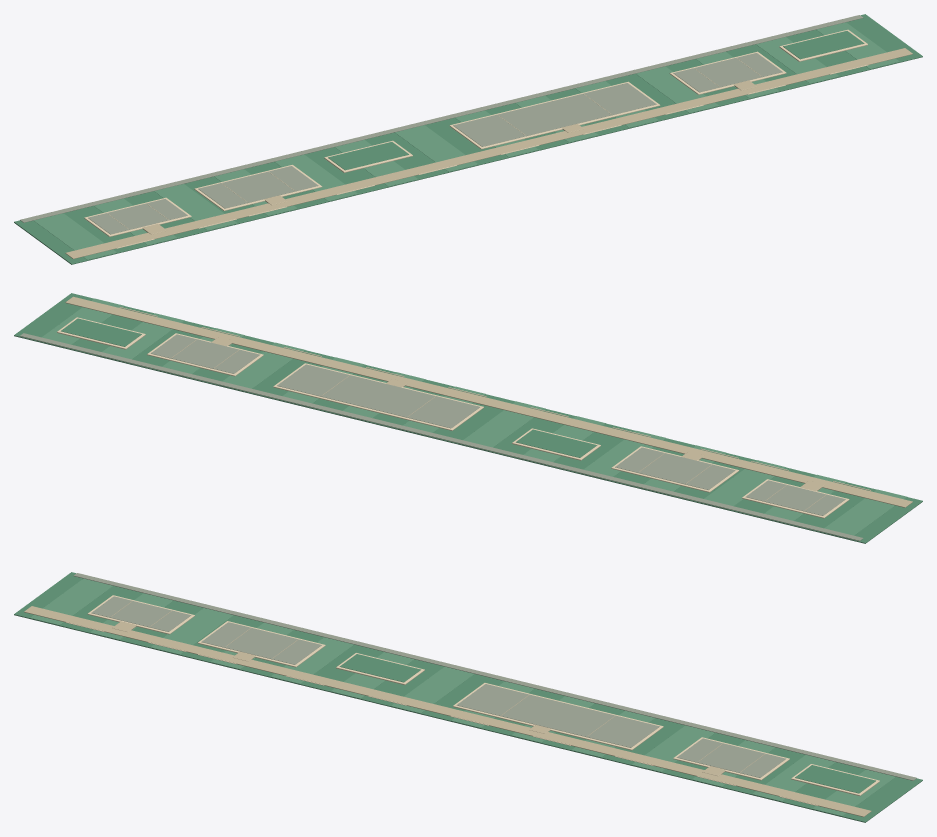
File: athlete_infield_plan.glb
The picture shows the model from 3 angles, top to bottom: view 1: azimuth 30°, elevation 25°; view 2: azimuth 150°, elevation 25°; view 3: azimuth 330°, elevation 25°; orthographic projection.
Parts seen in each view (by area): view 1: athlete_infield_plan__paving_dark, athlete_infield_plan__turf, athlete_infield_plan__turf_light, athlete_infield_plan__paving, athlete_infield_plan__cream; view 2: athlete_infield_plan__paving_dark, athlete_infield_plan__turf, athlete_infield_plan__turf_light, athlete_infield_plan__paving, athlete_infield_plan__cream; view 3: athlete_infield_plan__paving_dark, athlete_infield_plan__turf, athlete_infield_plan__turf_light, athlete_infield_plan__paving, athlete_infield_plan__cream.
Boxes of the visible parts, x1,y1,x2,y2 form: athlete_infield_plan__paving_dark: (20,15,863,234); athlete_infield_plan__turf: (14,14,922,264); athlete_infield_plan__turf_light: (33,22,899,259); athlete_infield_plan__paving: (65,48,912,258); athlete_infield_plan__cream: (84,29,868,248); athlete_infield_plan__paving_dark: (20,333,863,540); athlete_infield_plan__turf: (14,293,922,543); athlete_infield_plan__turf_light: (37,298,906,538); athlete_infield_plan__paving: (65,296,912,510); athlete_infield_plan__cream: (57,307,870,518); athlete_infield_plan__paving_dark: (73,573,916,780); athlete_infield_plan__turf: (14,572,922,822); athlete_infield_plan__turf_light: (30,578,895,815); athlete_infield_plan__paving: (24,601,871,816); athlete_infield_plan__cream: (66,595,879,805).
Size of the model in its own units: 29 by 0.09 by 3.4.
